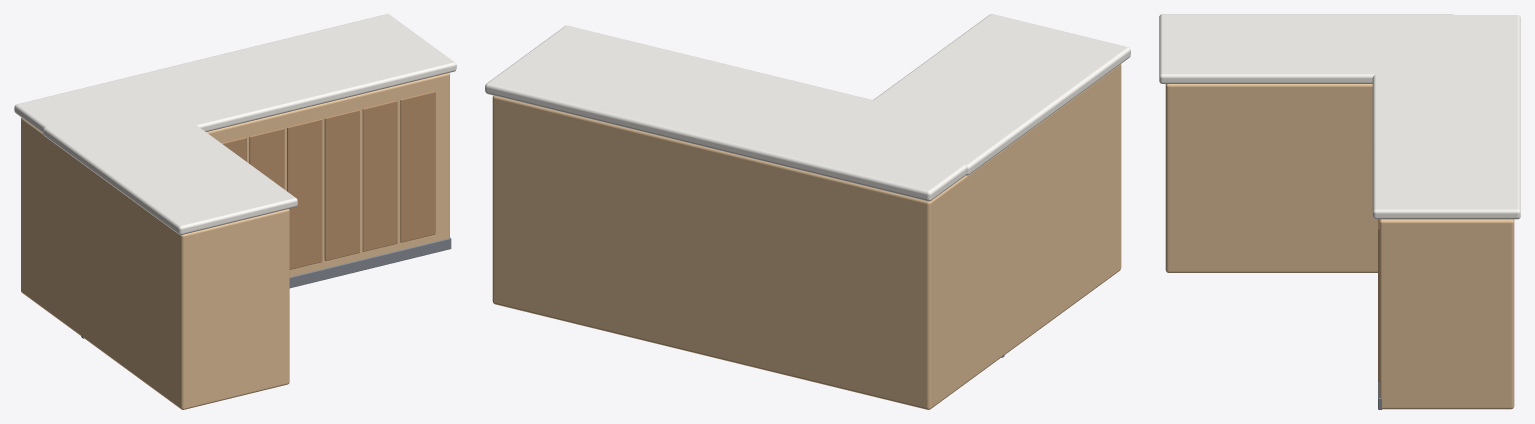
The model's file is reception_counter.glb.
3 renders of one model, left to right at view 1: azimuth 30°, elevation 25°; view 2: azimuth 150°, elevation 25°; view 3: azimuth 270°, elevation 25°, orthographic. The views are drawn at different scales.
Visible parts, largest first — view 1: CounterWingBody, CounterMainTop, CounterWingTop, CounterMainBody, CounterSlat_7, CounterSlat_8, CounterSlat_6, CounterSlat_5, CounterToeKick, CounterSlat_4; view 2: CounterMainBody, CounterMainTop, CounterWingBody, CounterWingTop; view 3: CounterWingBody, CounterMainTop, CounterMainBody, CounterWingTop.
Part boxes in pixels (x1,y1,x2,y2): CounterWingBody: [51, 141, 289, 409]; CounterMainTop: [14, 14, 456, 150]; CounterWingTop: [43, 100, 297, 235]; CounterMainBody: [21, 73, 449, 314]; CounterSlat_7: [362, 100, 397, 251]; CounterSlat_8: [400, 91, 435, 242]; CounterSlat_6: [324, 109, 359, 260]; CounterSlat_5: [287, 119, 322, 269]; CounterToeKick: [81, 237, 451, 338]; CounterSlat_4: [249, 128, 284, 189]; CounterMainBody: [492, 95, 1002, 409]; CounterMainTop: [485, 25, 1006, 201]; CounterWingBody: [967, 64, 1121, 382]; CounterWingTop: [834, 14, 1130, 175]; CounterWingBody: [1165, 84, 1377, 272]; CounterMainTop: [1372, 15, 1520, 219]; CounterMainBody: [1379, 219, 1514, 409]; CounterWingTop: [1159, 14, 1453, 83].
Size of the model in its own units: 2.15 by 1.02 by 1.66.
